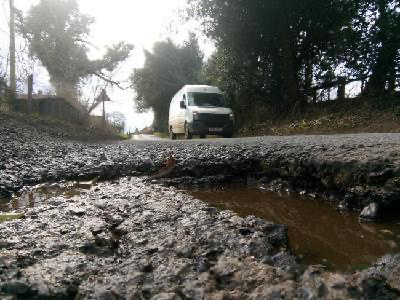pothole: (1, 156, 400, 284)
